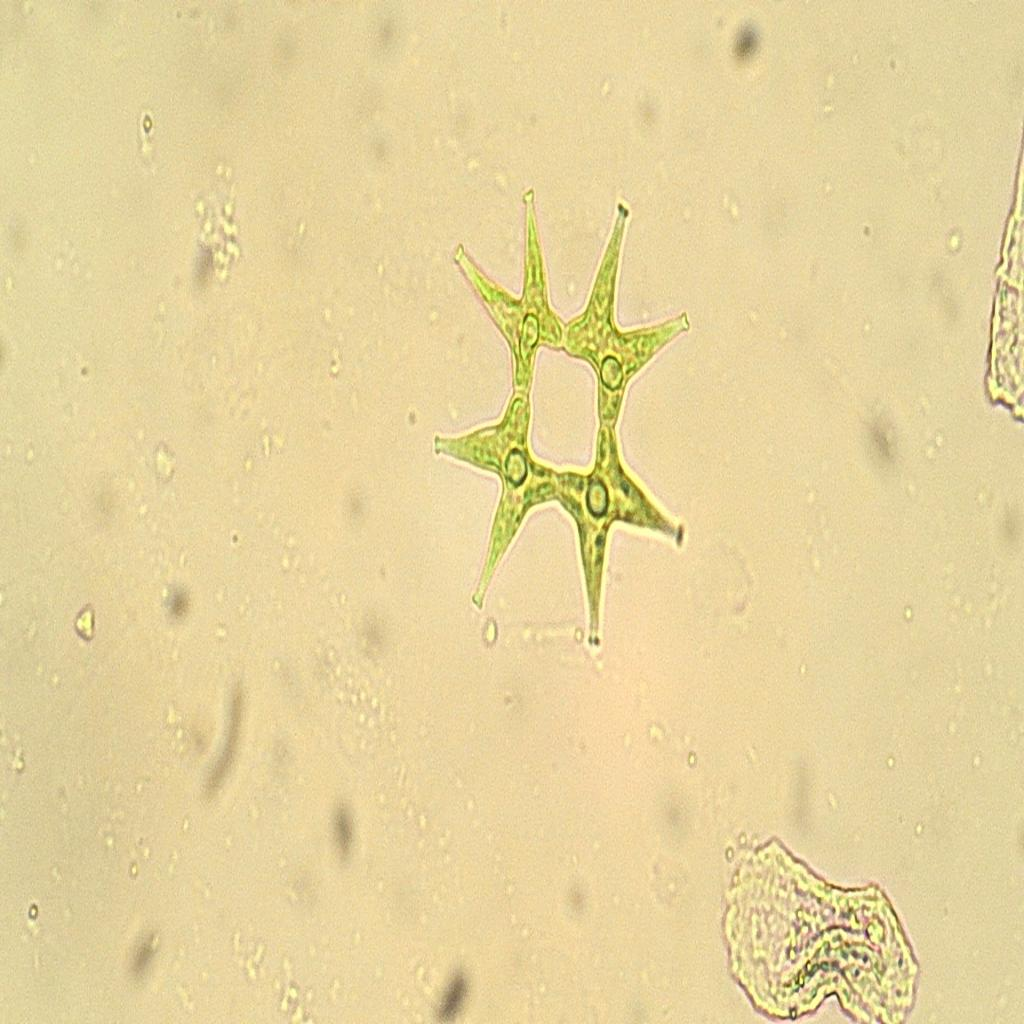Pediastrum_CO: (416, 168, 718, 672)
